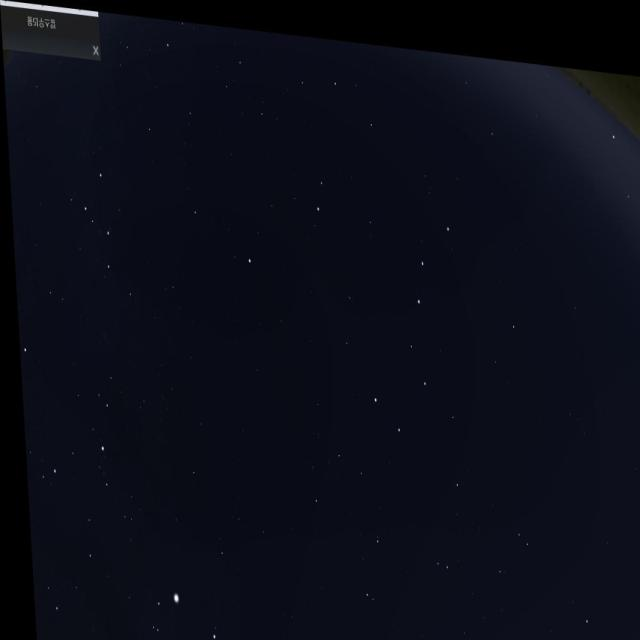cassiopeia: (69, 158, 157, 294)
ursa_major: (361, 189, 464, 439)
